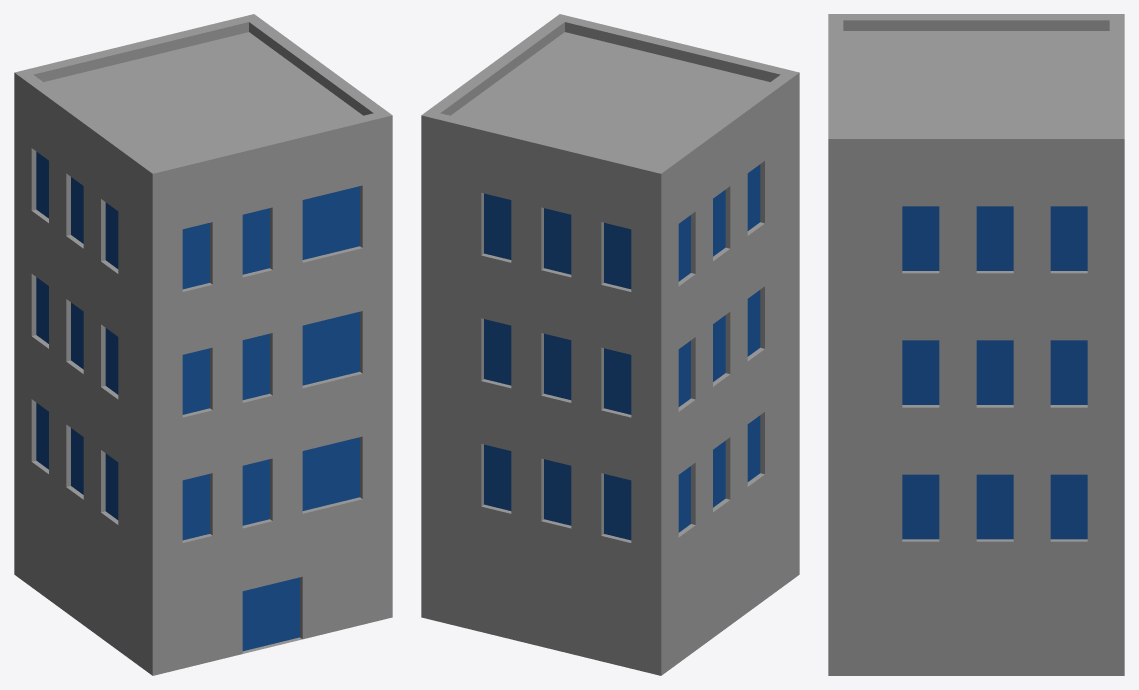
Rendered from BudynekNr1.fbx.
3 renders of one model, left to right at view 1: azimuth 30°, elevation 25°; view 2: azimuth 150°, elevation 25°; view 3: azimuth 270°, elevation 25°, orthographic. The views are drawn at different scales.
Parts seen in each view (by area): view 1: Cube; view 2: Cube; view 3: Cube.
Part boxes in pixels (x1=…): Cube: x1=14, y1=14, x2=392, y2=675; Cube: x1=421, y1=14, x2=799, y2=675; Cube: x1=828, y1=14, x2=1124, y2=675.
Size of the model in its own units: 1 by 2 by 1.
